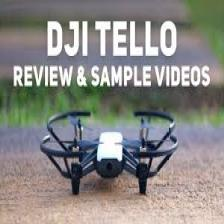drone: (41, 107, 179, 195)
